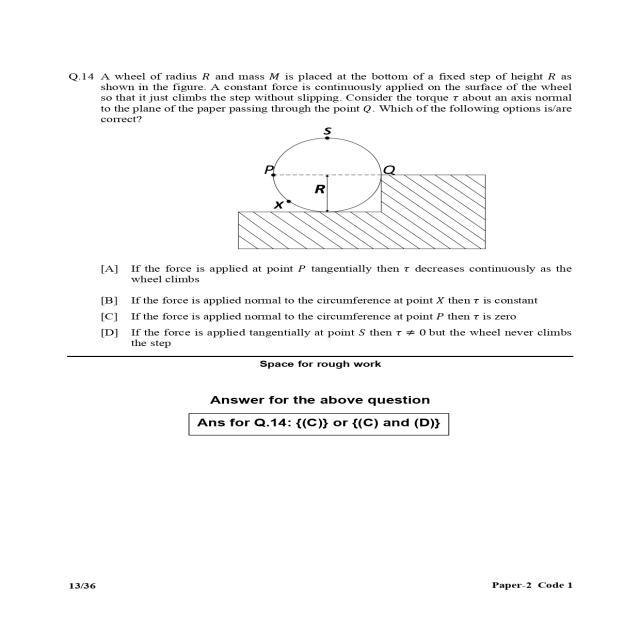Answer_Block: (49, 258, 588, 354)
Description: (49, 354, 588, 504)
Question_Answer_Block: (49, 61, 588, 357)
Question_Block: (49, 61, 588, 259)
Question_Paper_Area: (49, 61, 588, 576)
